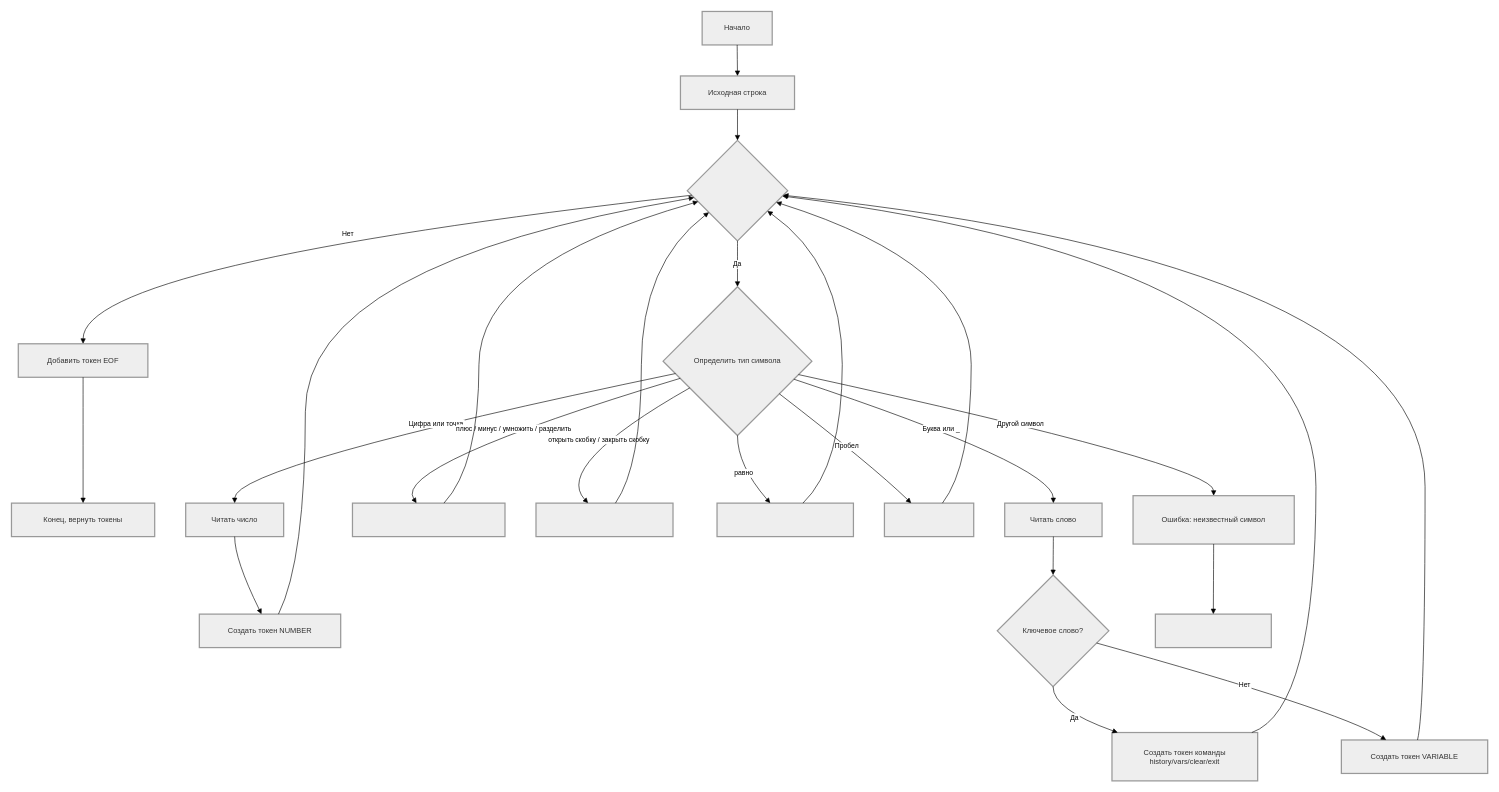
Some shapes in this 1499 by 792 pixel diagram are drawn without their labels. The box of each missing label's shape, as (x1, y1, x2, y2) in pixels:
Есть символы?: (686, 140, 788, 241)
Конец с ошибкой: (1154, 613, 1272, 648)
Пропустить: (884, 502, 974, 537)
Создать токен ASSIGN: (716, 502, 854, 537)
Создать токен оператора: (352, 502, 505, 537)
Создать токен скобки: (535, 502, 673, 537)
